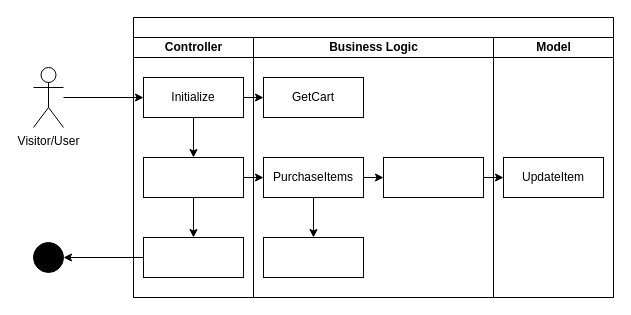
This 631x315 diagram has some shape labels left out. Here are the shapes that lost their labels. From the top down, the centre of each, then its label:
At point 193,177: "Purchase".
At point 433,177: "SetItemStatus".
At point 193,257: "ShowItem".
At point 313,257: "UpdateCart".
